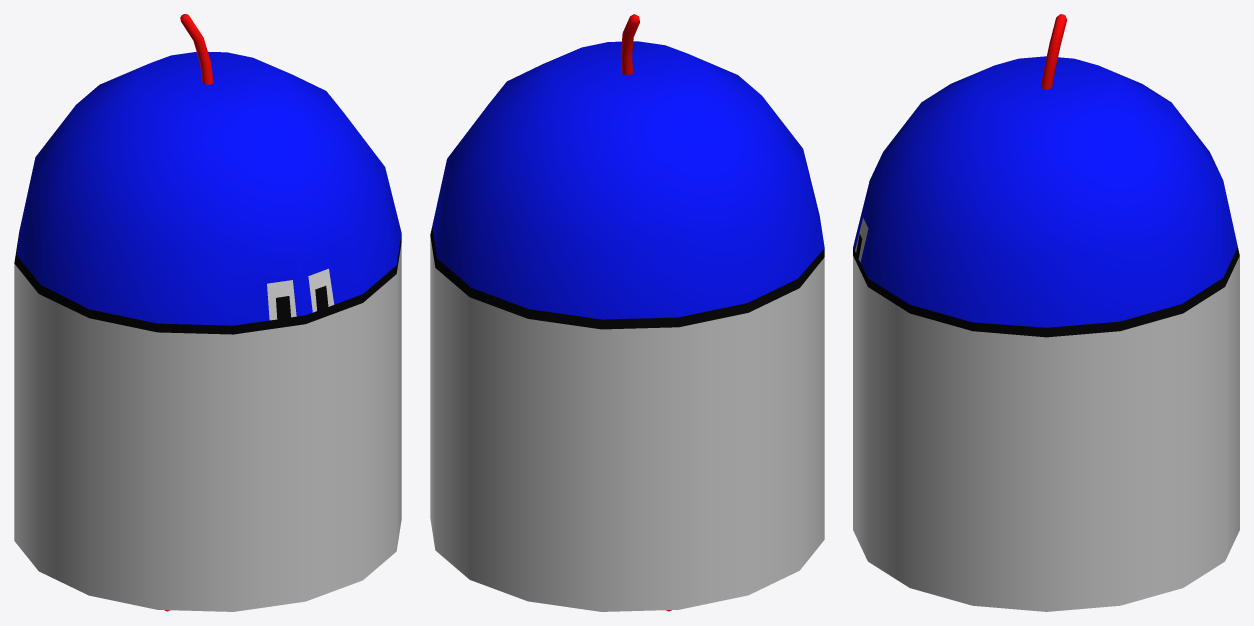
File: robot.sapphire.obj
3 views of the same model, side by side, from view 1: azimuth 30°, elevation 25°; view 2: azimuth 150°, elevation 25°; view 3: azimuth 270°, elevation 25° (orthographic). The views are drawn at different scales.
Parts seen in each view (by area): view 1: Cylinder.001_Cylinder.002; view 2: Cylinder.001_Cylinder.002; view 3: Cylinder.001_Cylinder.002.
Boxes of the visible parts, left/top/right/bottom form: Cylinder.001_Cylinder.002: left=14, top=14, right=401, bottom=611; Cylinder.001_Cylinder.002: left=430, top=14, right=824, bottom=611; Cylinder.001_Cylinder.002: left=853, top=14, right=1239, bottom=611.
Bounding box in the file's own units: 0.6667 × 1 × 0.6667.
